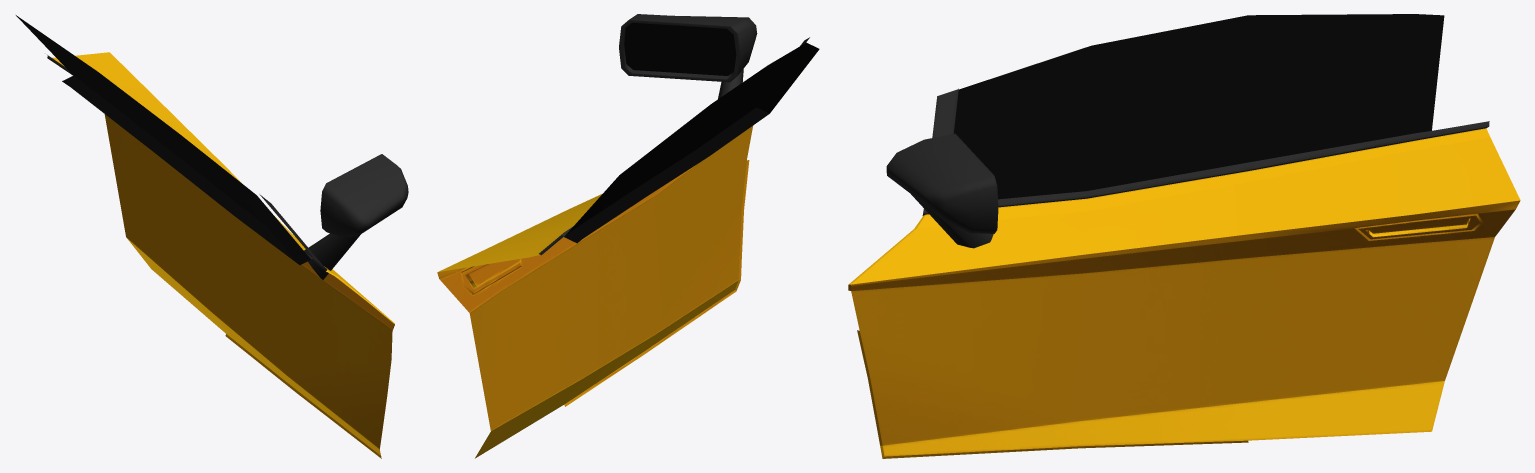
Rendered from Lamborghini_Aventador_left_dor.obj.
3 renders of one model, left to right at view 1: azimuth 30°, elevation 25°; view 2: azimuth 150°, elevation 25°; view 3: azimuth 270°, elevation 25°, orthographic. The views are drawn at different scales.
Visible parts, largest first — view 1: Lamborghini_Aventador:Body.000_Lamborghini_Aventador:Body.007; view 2: Lamborghini_Aventador:Body.000_Lamborghini_Aventador:Body.007; view 3: Lamborghini_Aventador:Body.000_Lamborghini_Aventador:Body.007.
Boxes of the visible parts, <box> form: Lamborghini_Aventador:Body.000_Lamborghini_Aventador:Body.007: <box>16,15,408,458</box>; Lamborghini_Aventador:Body.000_Lamborghini_Aventador:Body.007: <box>437,14,819,458</box>; Lamborghini_Aventador:Body.000_Lamborghini_Aventador:Body.007: <box>848,14,1520,458</box>.
Bounding box in the file's own units: 0.5714 × 0.8743 × 1.45.
2 materials, 1 textured.
